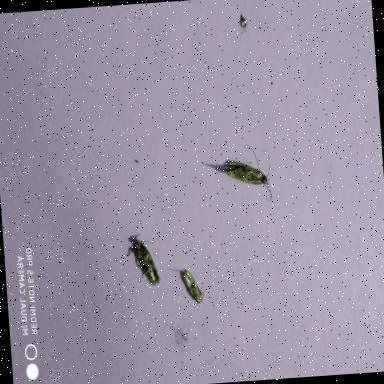pbw: (214, 151, 274, 189), (130, 234, 159, 292), (178, 265, 209, 303)
